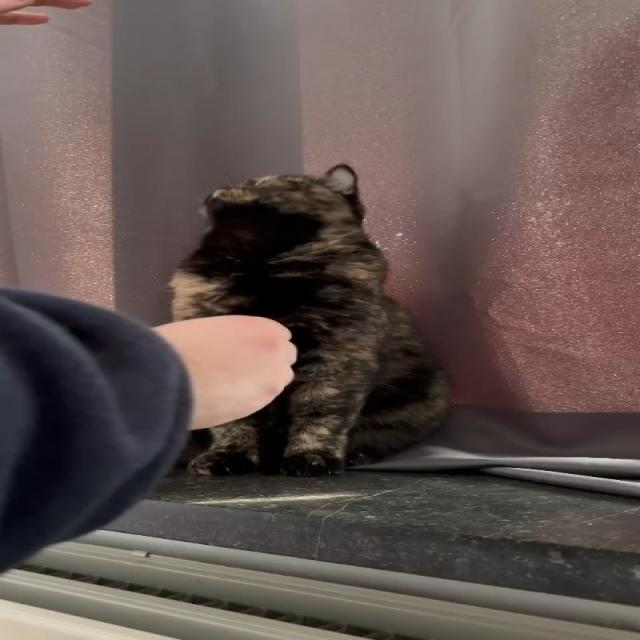authorized: (167, 162, 452, 477)
